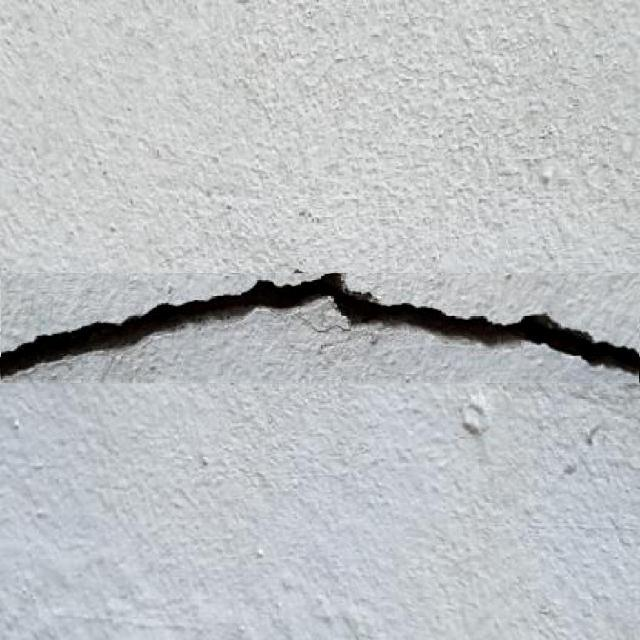horizontal crack: (1, 274, 639, 381)
